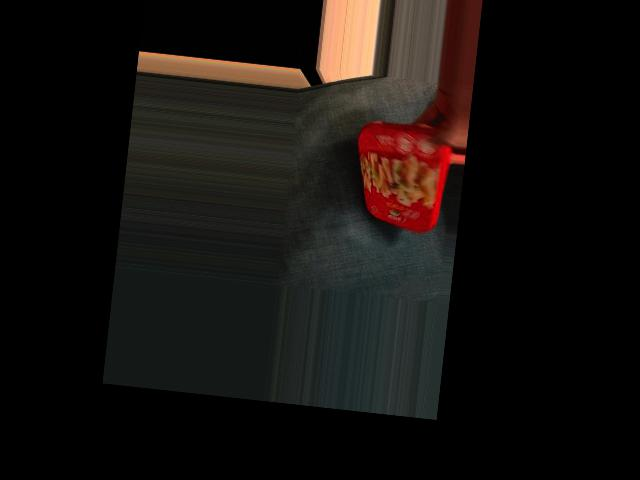cheese: (353, 113, 453, 232)
